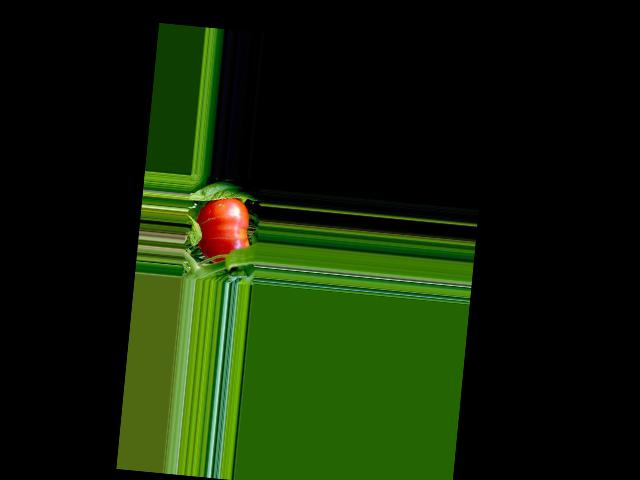tomato: (193, 194, 253, 266)
